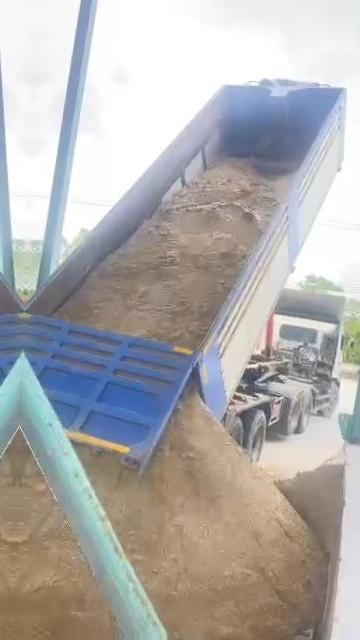sand: (77, 391, 325, 640), (56, 160, 290, 348), (11, 439, 115, 635), (276, 451, 344, 555)
